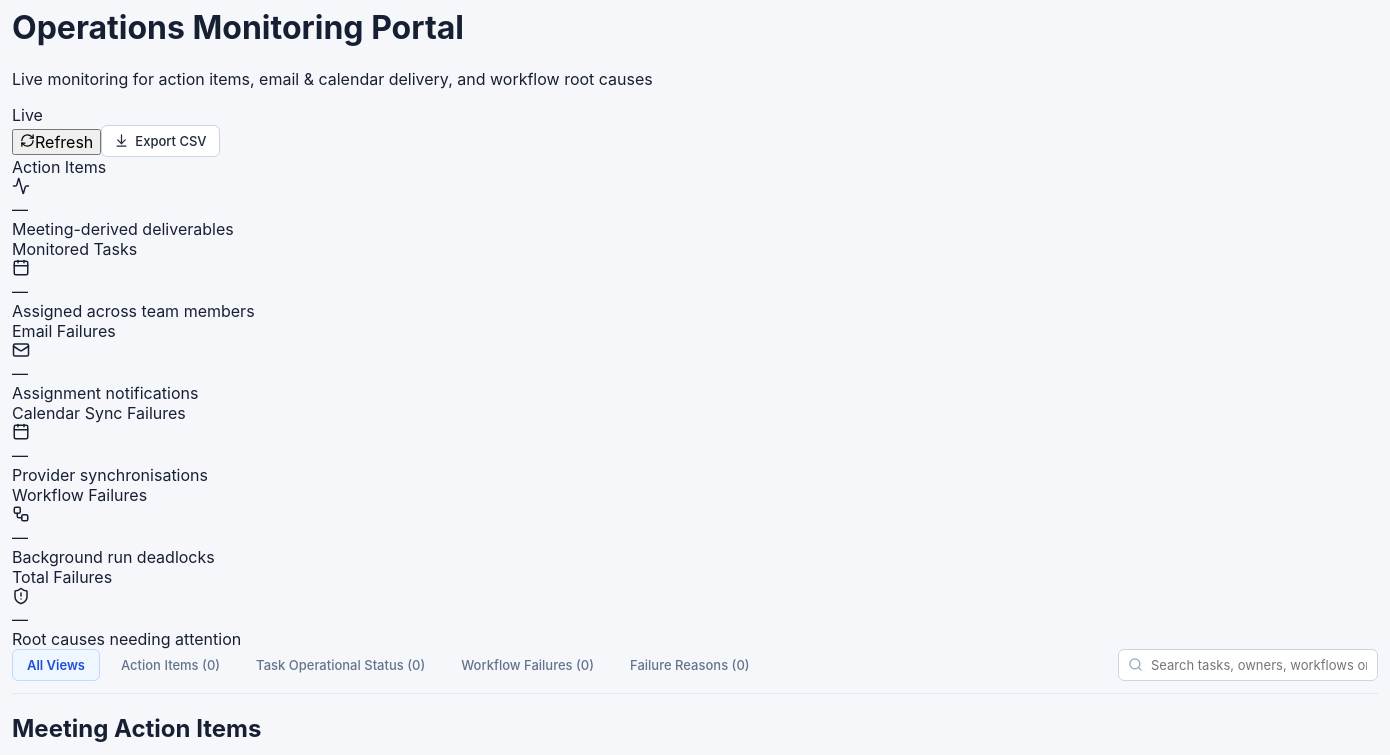
ManagerMonitoringPage › switches tabs and displays specific sections
Expected: the heading "Operations Monitoring Portal" is shown, top-left (12, 8), bottom-right (464, 47)
Click the tab with test id "tab-workflow-failures" at (528, 665), box top-left (446, 649), bottom-right (609, 681)
(page scrolled)
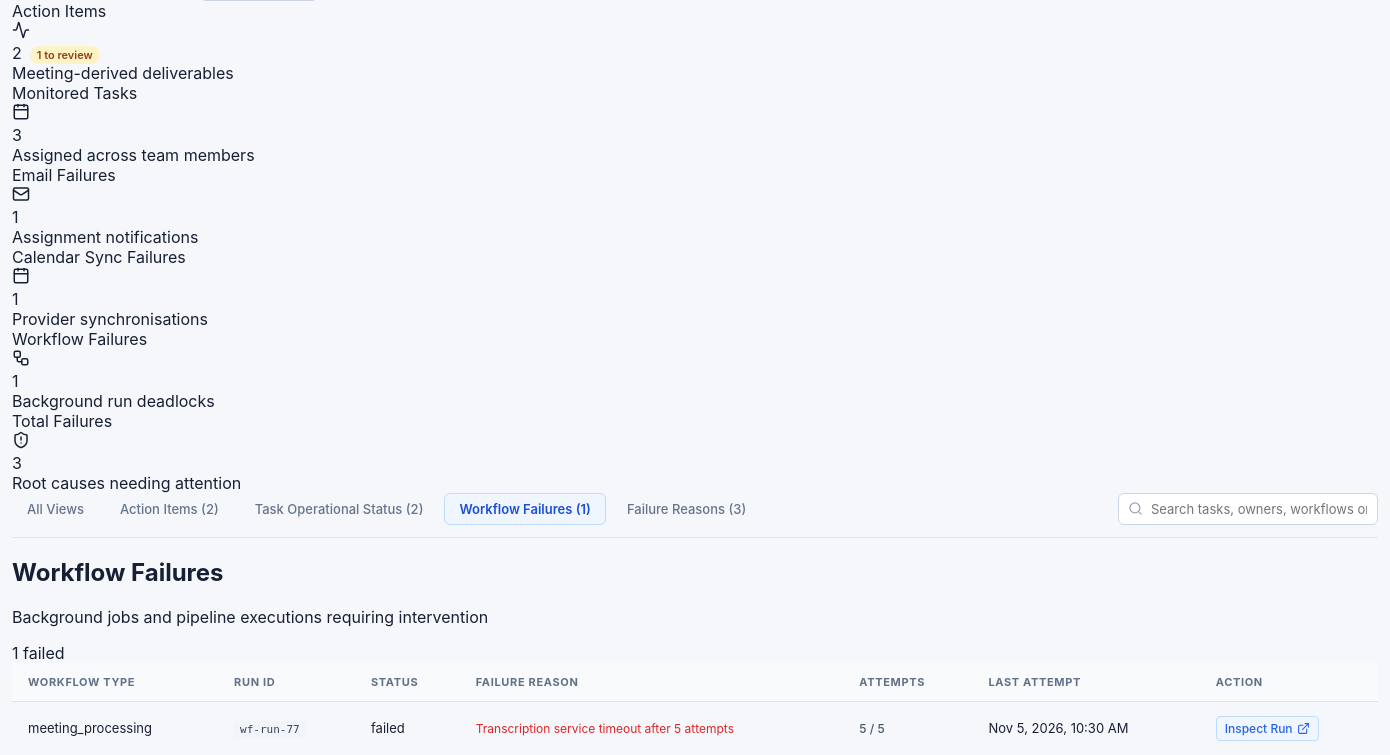
Expected: the heading "Workflow Failures" is shown, top-left (12, 558), bottom-right (224, 587)
Result: the heading "Meeting Action Items" is gone
